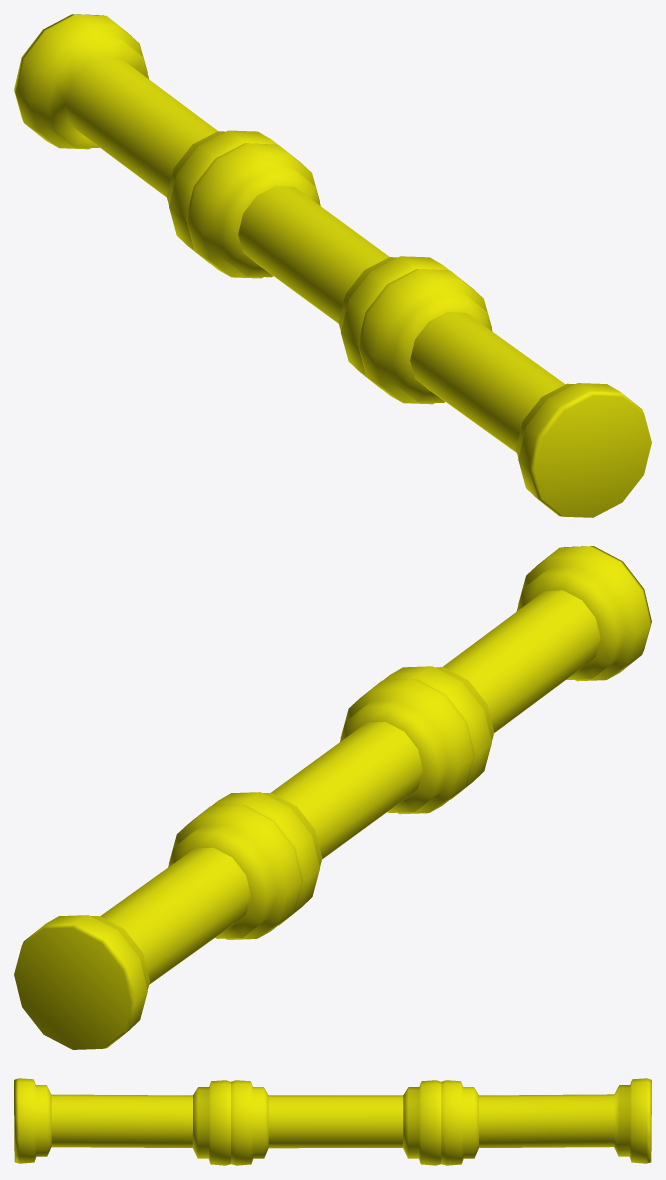
The model's file is Rail_Rock_02.fbx.
3 renders of one model, top to bottom at view 1: azimuth 30°, elevation 25°; view 2: azimuth 150°, elevation 25°; view 3: azimuth 270°, elevation 25°, orthographic. The views are drawn at different scales.
Visible parts, largest first — view 1: Rail_Rock_02; view 2: Rail_Rock_02; view 3: Rail_Rock_02.
Boxes of the visible parts, left/top/right/bottom form: Rail_Rock_02: left=14, top=14, right=651, bottom=517; Rail_Rock_02: left=14, top=546, right=651, bottom=1049; Rail_Rock_02: left=14, top=1078, right=651, bottom=1165.
Bounding box in the file's own units: 25.57 × 26.18 × 190.
